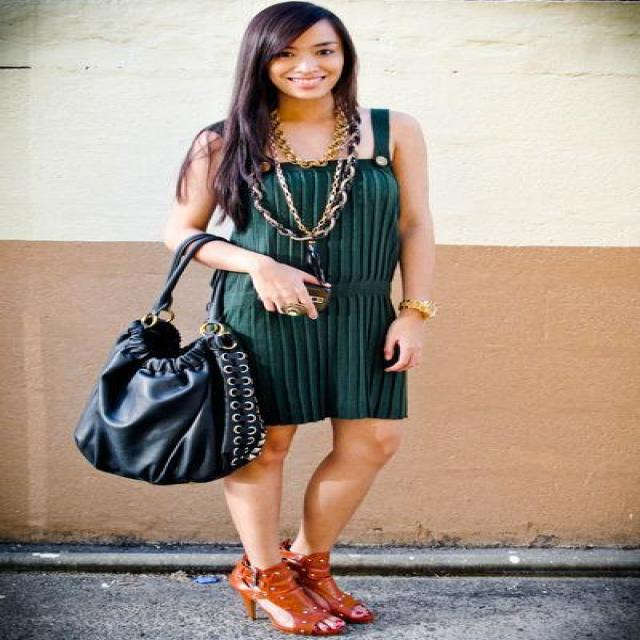bag: (74, 242, 266, 484)
dress: (224, 115, 406, 432)
shoe: (228, 558, 369, 624)
